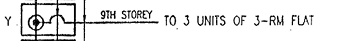Single Phase Tap-Off Unit: (11, 2, 79, 38)
